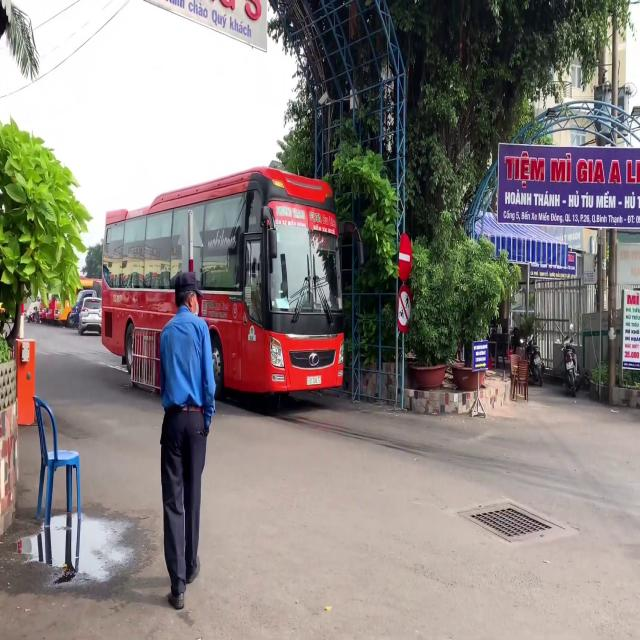bien_trang: (305, 374, 323, 387)
